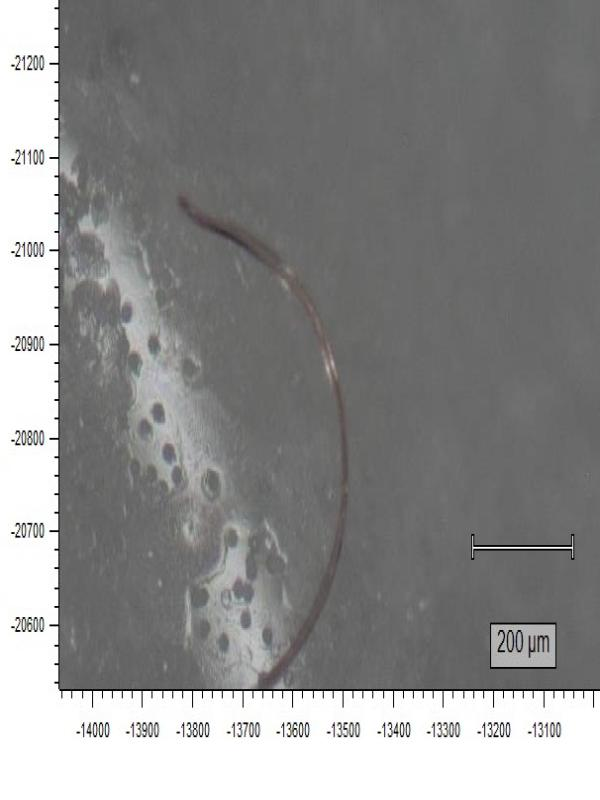microplastic: (58, 146, 350, 689)
